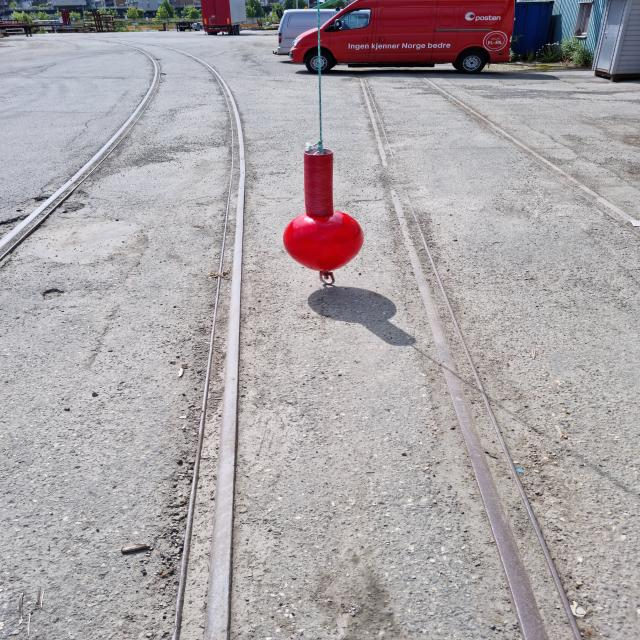red: (283, 148, 363, 272)
